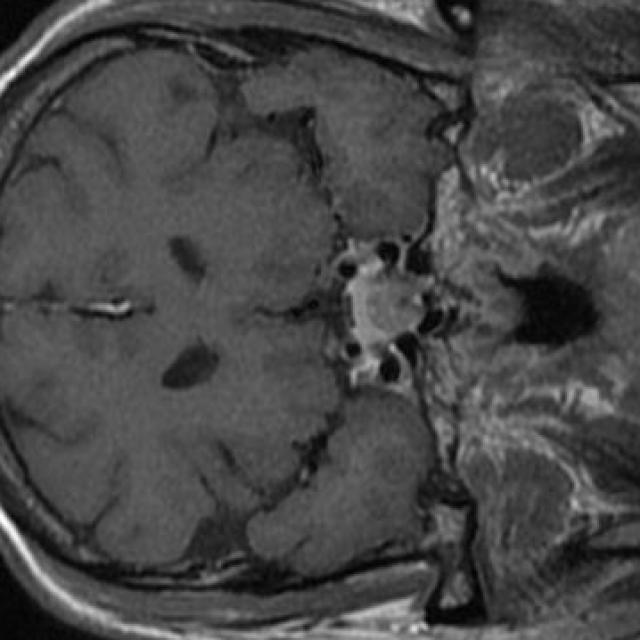pituitary: (348, 260, 428, 346)
